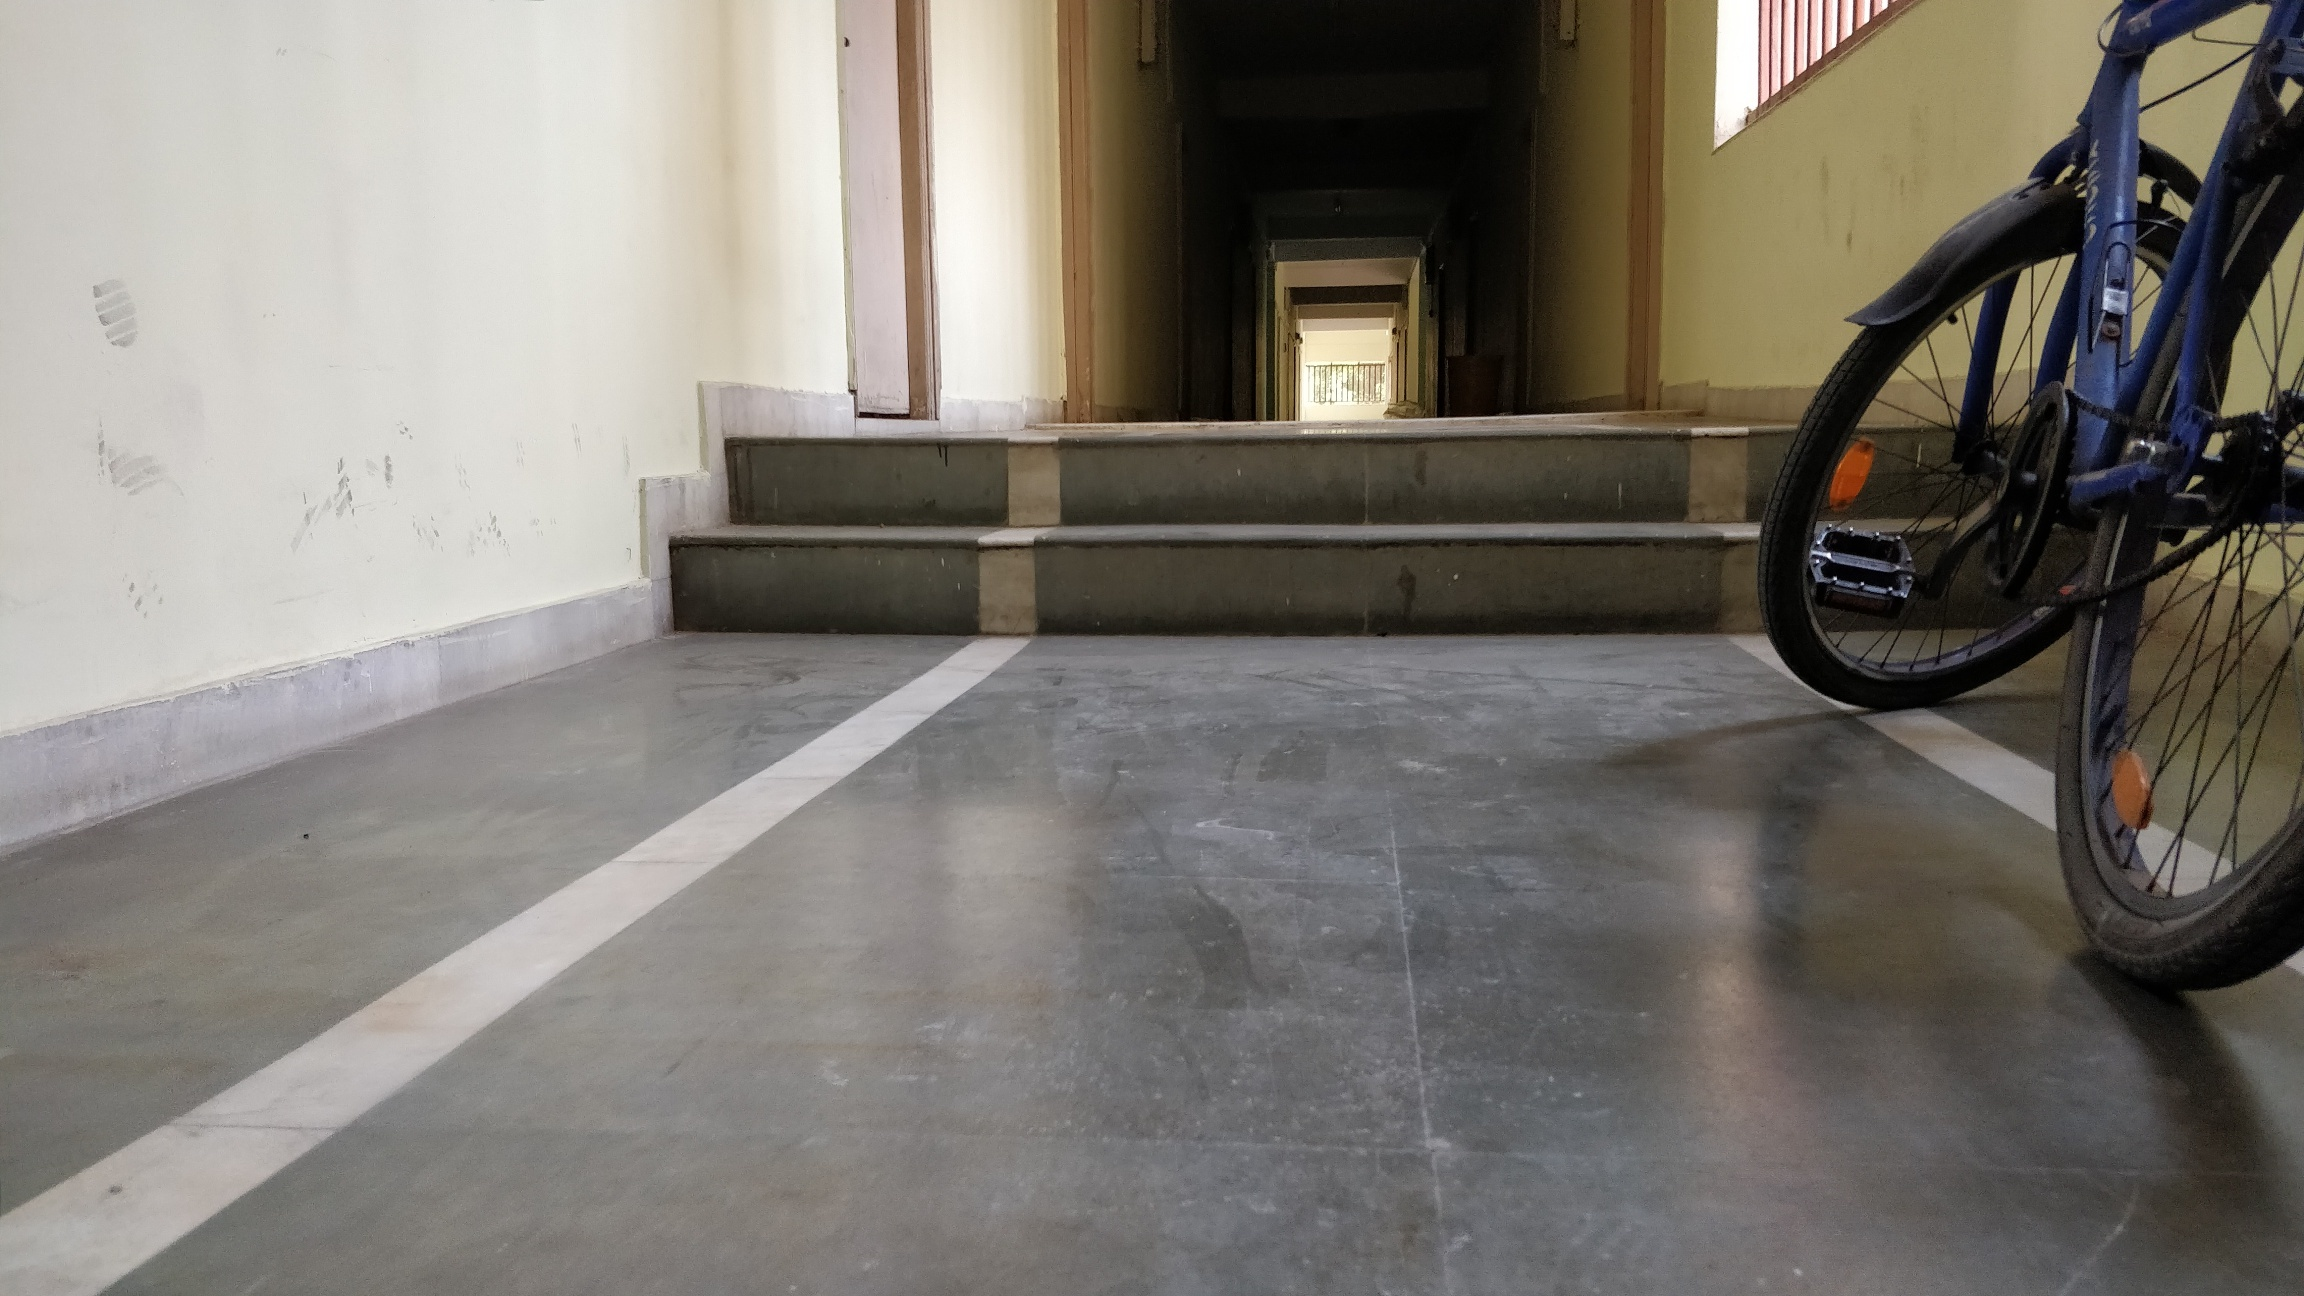stairs_up: (658, 426, 1769, 649)
